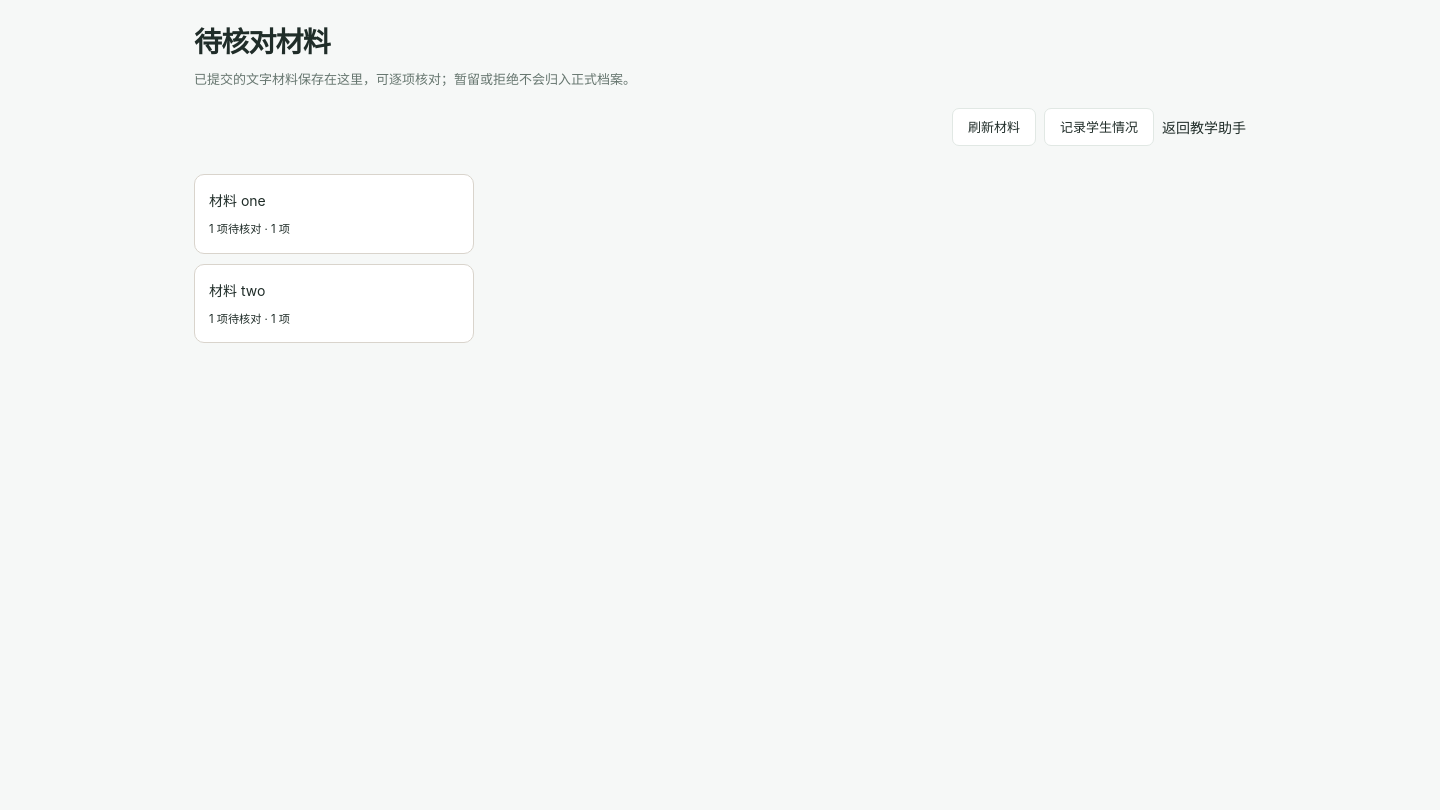
it: candidate drafts and confirmation recovery in synthetic sessions › preserves local edits on a newer server version and requires explicit review before saving them
Click the button "材料 one 1 项待核对 · 1 项" at (237, 201), box [194,174,474,254]
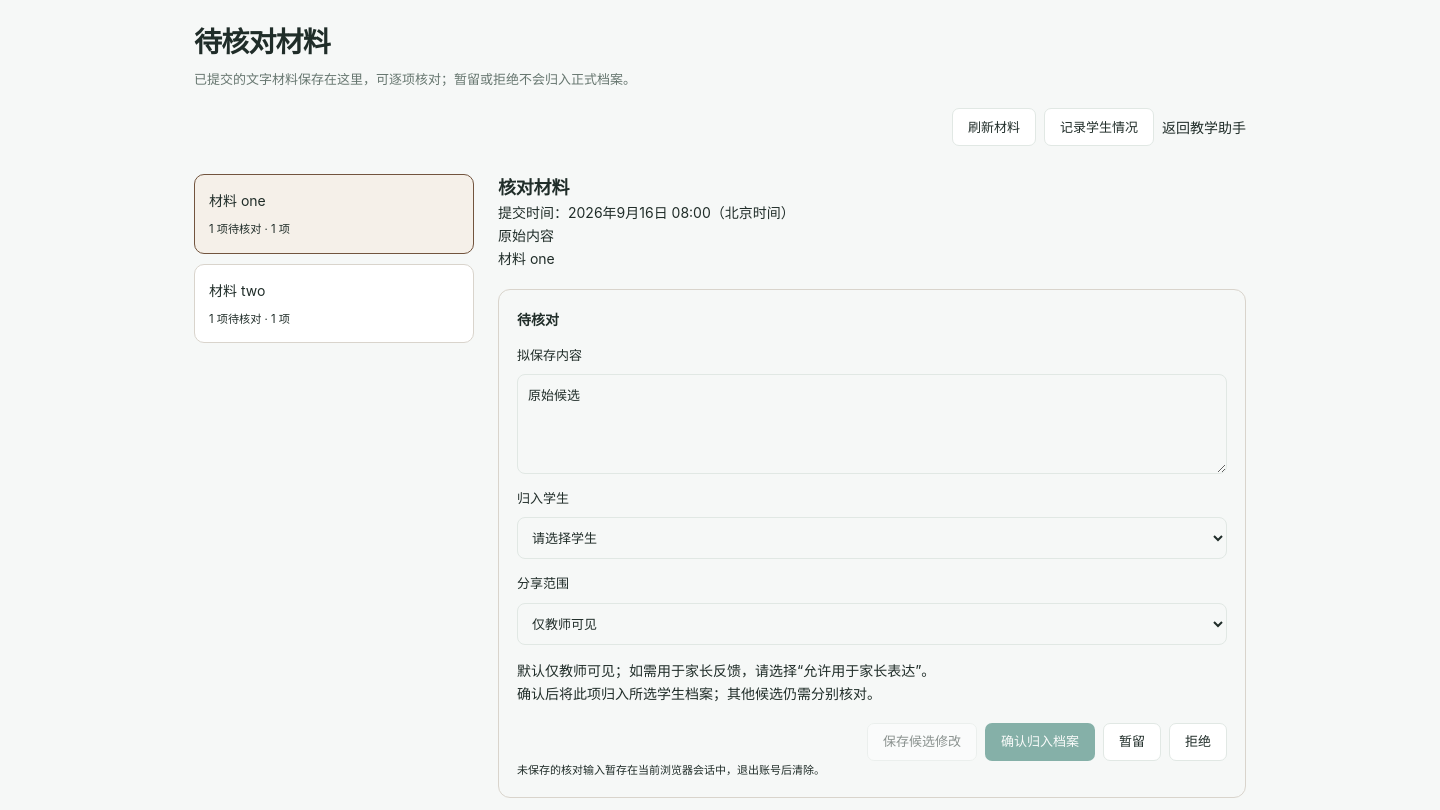
Replace the text in the text box labelled "拟保存内容" with "我的核对修改" at (872, 424), box [517,374,1227,474]
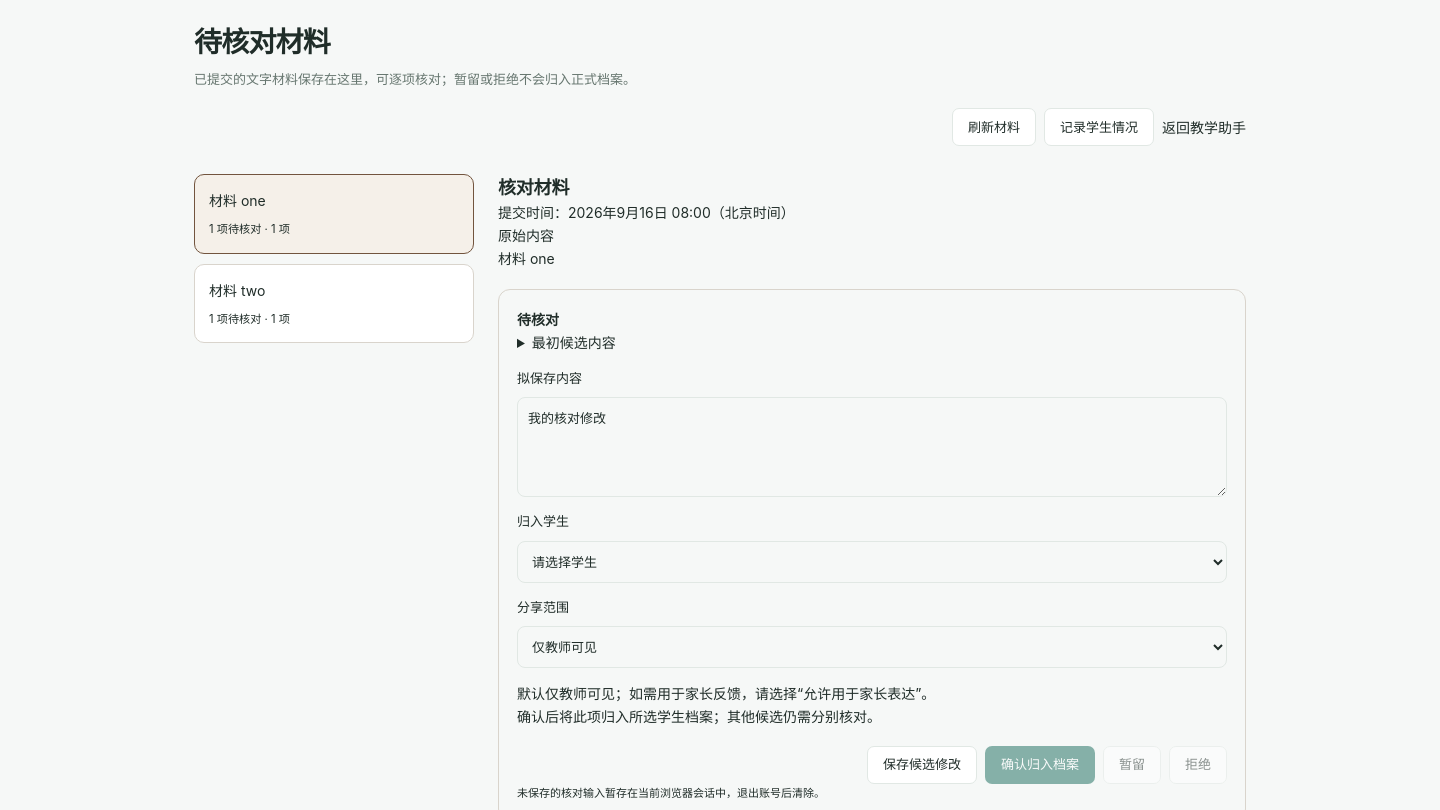
Select "小雨 · 初一" in the dropdown labelled "归入学生" at (872, 562), box [517,541,1227,583]
Click the button "刷新材料" at (994, 127), box [952,108,1036,146]
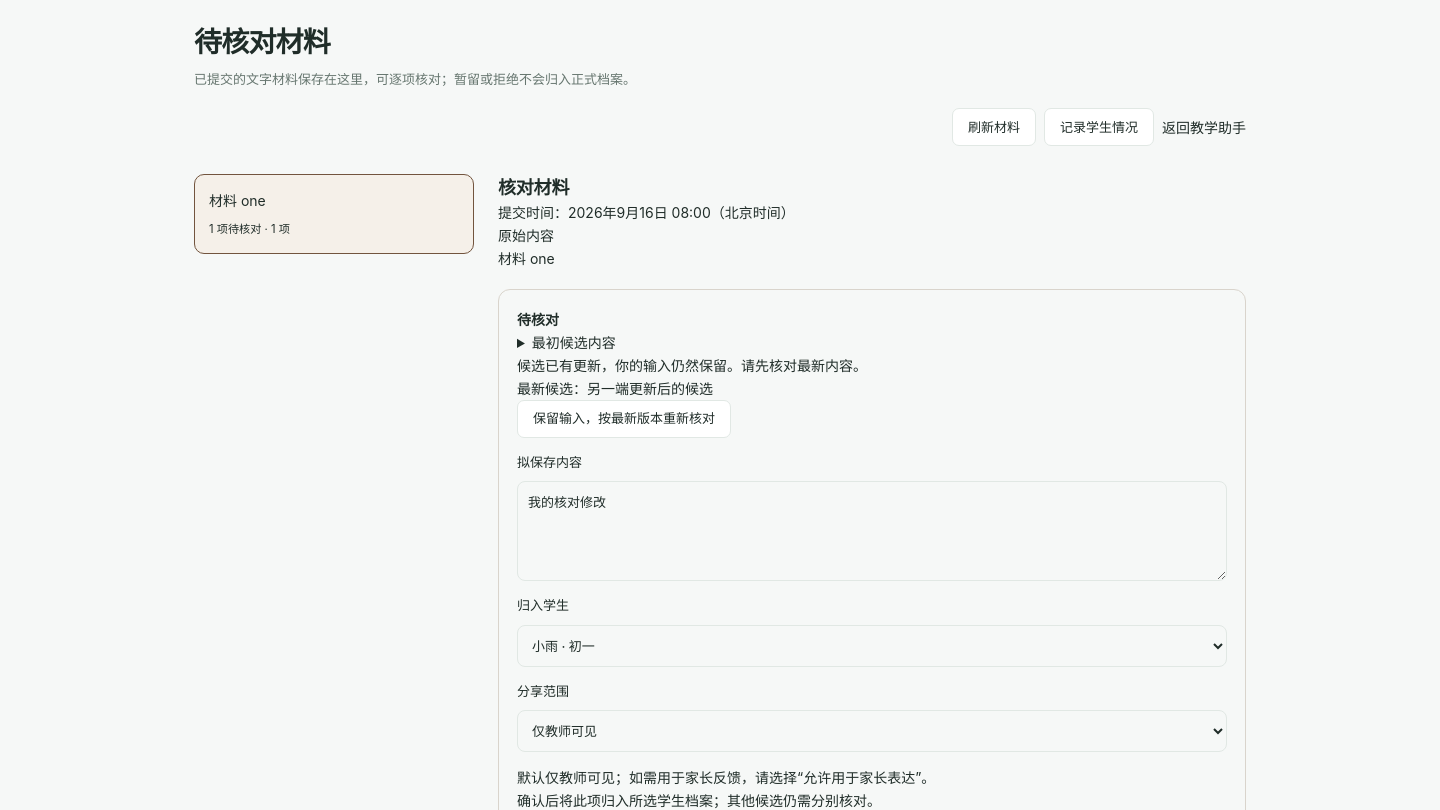
Result: the text "最新候选：另一端更新后的候选" is shown at [517,380,713,397]
Click the button "保留输入，按最新版本重新核对" at (624, 419), box [517,400,731,438]
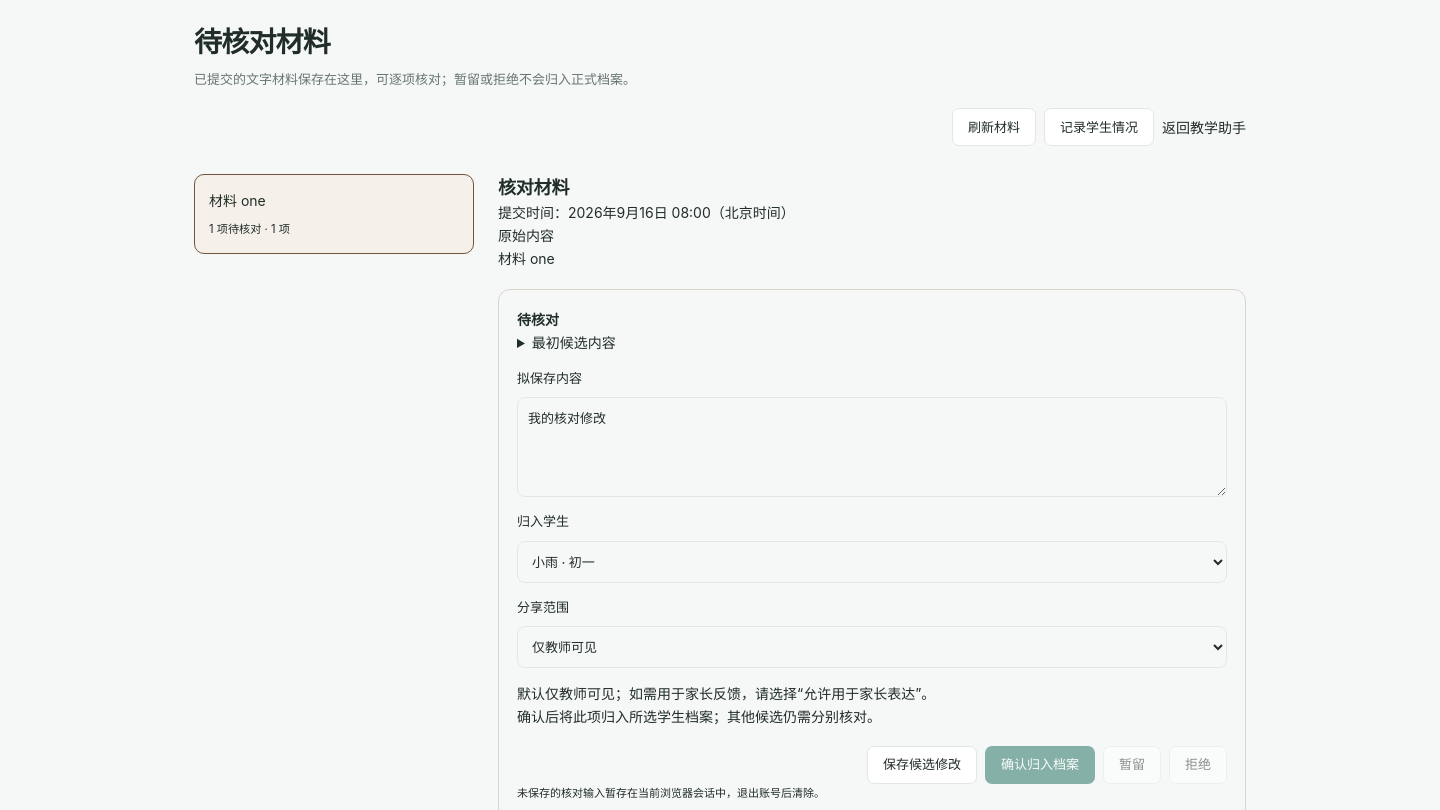
Click the button "保存候选修改" at (922, 765), box [867,746,977,784]
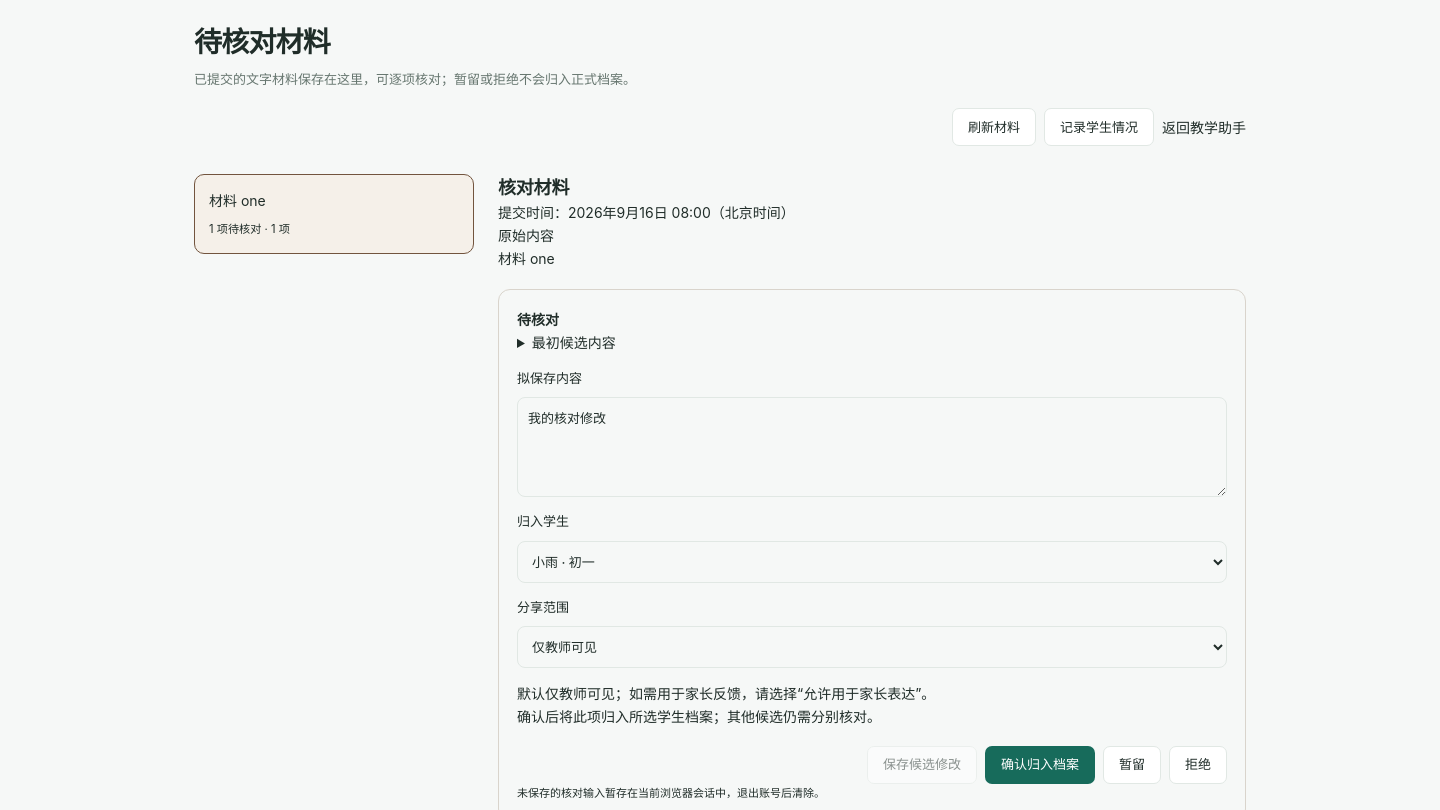
Result: the button "确认归入档案" is enabled
Click the button "确认归入档案" at (1040, 765), box [985,746,1095,784]
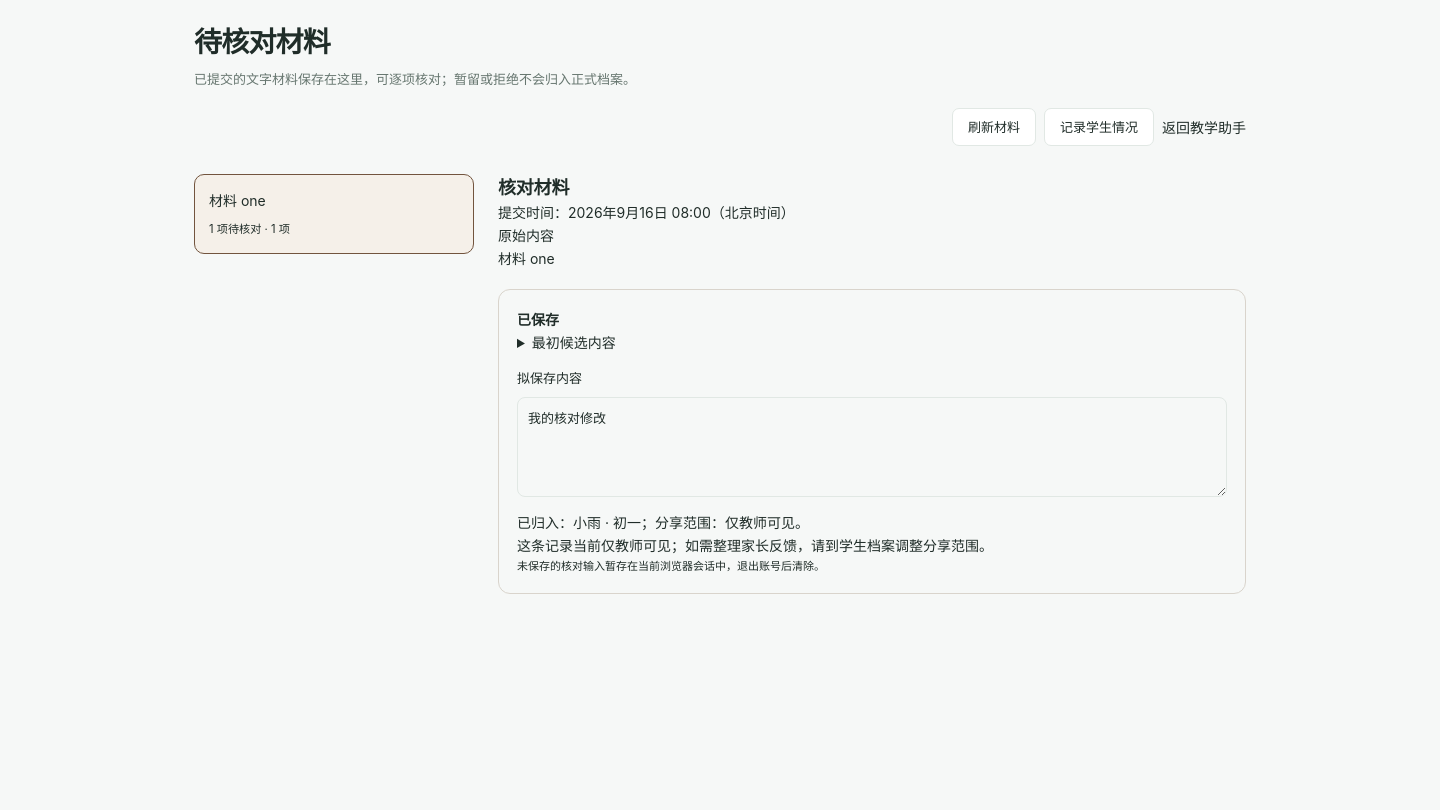
Result: the text "已保存" is shown at [517,310,559,328]
